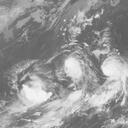cyclone: (19, 75, 48, 104), (100, 53, 127, 79), (63, 55, 85, 84)
